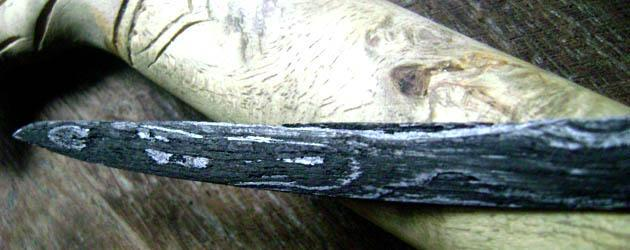facao: (12, 117, 629, 208)
